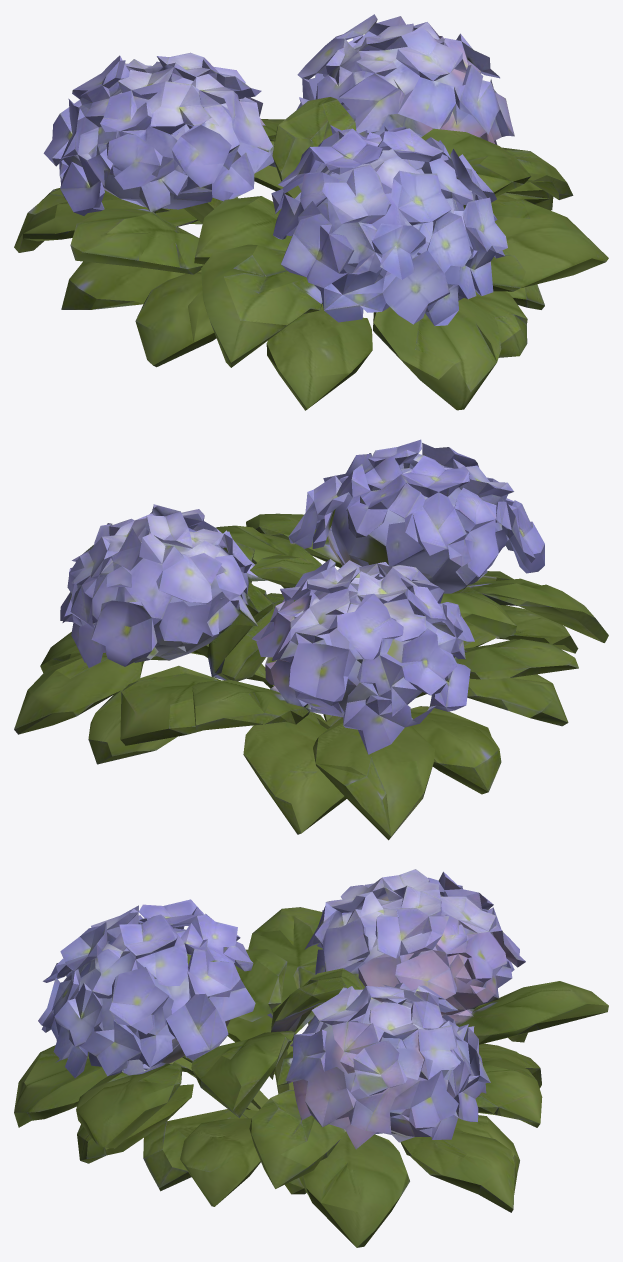
Rendered from common-nature-flowering-hydrangea-bush-cottage-normal.glb.
3 renders of one model, top to bottom at view 1: azimuth 30°, elevation 25°; view 2: azimuth 150°, elevation 25°; view 3: azimuth 270°, elevation 25°, orthographic. The views are drawn at different scales.
Visible parts, largest first — view 1: Mesh_0; view 2: Mesh_0; view 3: Mesh_0.
Part boxes in pixels (bbox=[...]): Mesh_0: bbox=[14, 14, 608, 410]; Mesh_0: bbox=[14, 439, 608, 840]; Mesh_0: bbox=[14, 869, 608, 1247].
Bounding box in the file's own units: 1.13 × 0.53 × 1.2.
1 material, 1 textured.
